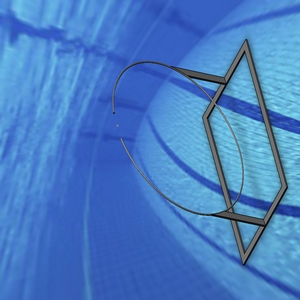circle: (108, 60, 239, 217), (201, 36, 289, 264)
